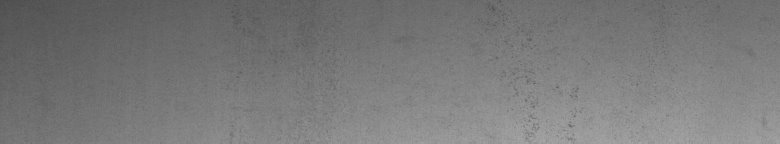ib: (486, 4, 583, 131)
